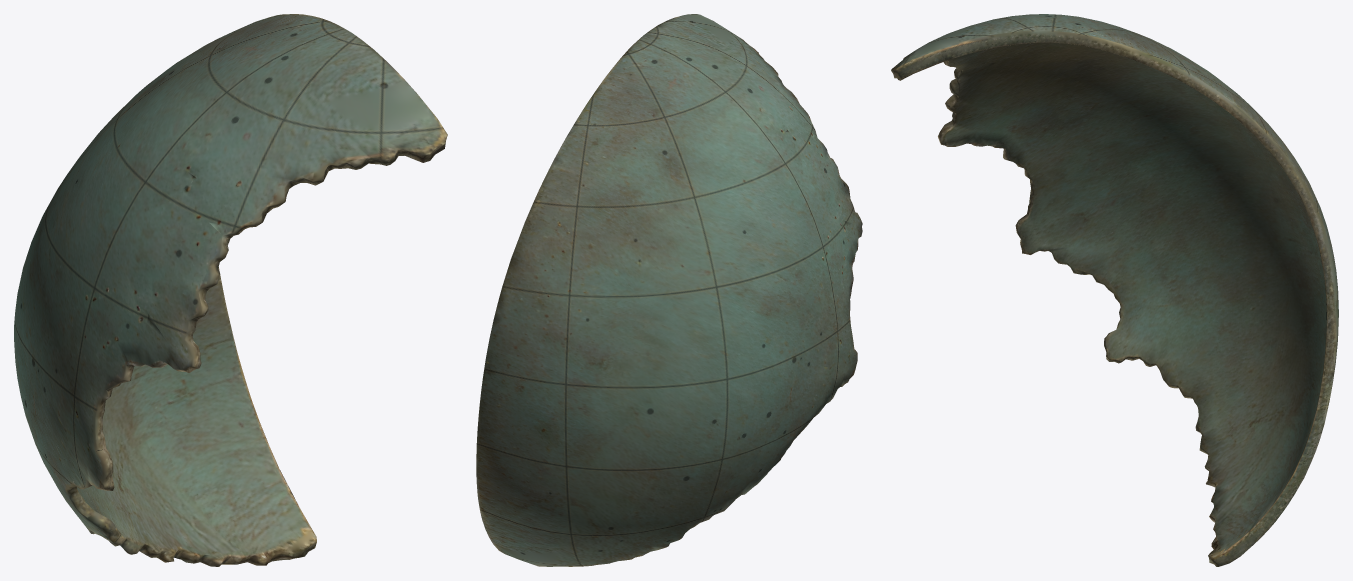
Rendered from StarShell_LOD0.fbx.
3 renders of one model, left to right at view 1: azimuth 30°, elevation 25°; view 2: azimuth 150°, elevation 25°; view 3: azimuth 270°, elevation 25°, orthographic. The views are drawn at different scales.
Parts seen in each view (by area): view 1: StarShell_LOD0; view 2: StarShell_LOD0; view 3: StarShell_LOD0.
Boxes of the visible parts, x1=… form: StarShell_LOD0: x1=14, y1=14, x2=447, y2=566; StarShell_LOD0: x1=476, y1=14, x2=862, y2=566; StarShell_LOD0: x1=891, y1=14, x2=1338, y2=566.
Bounding box in the file's own units: 0.9147 × 1.6 × 1.27.
1 material, 1 textured.
